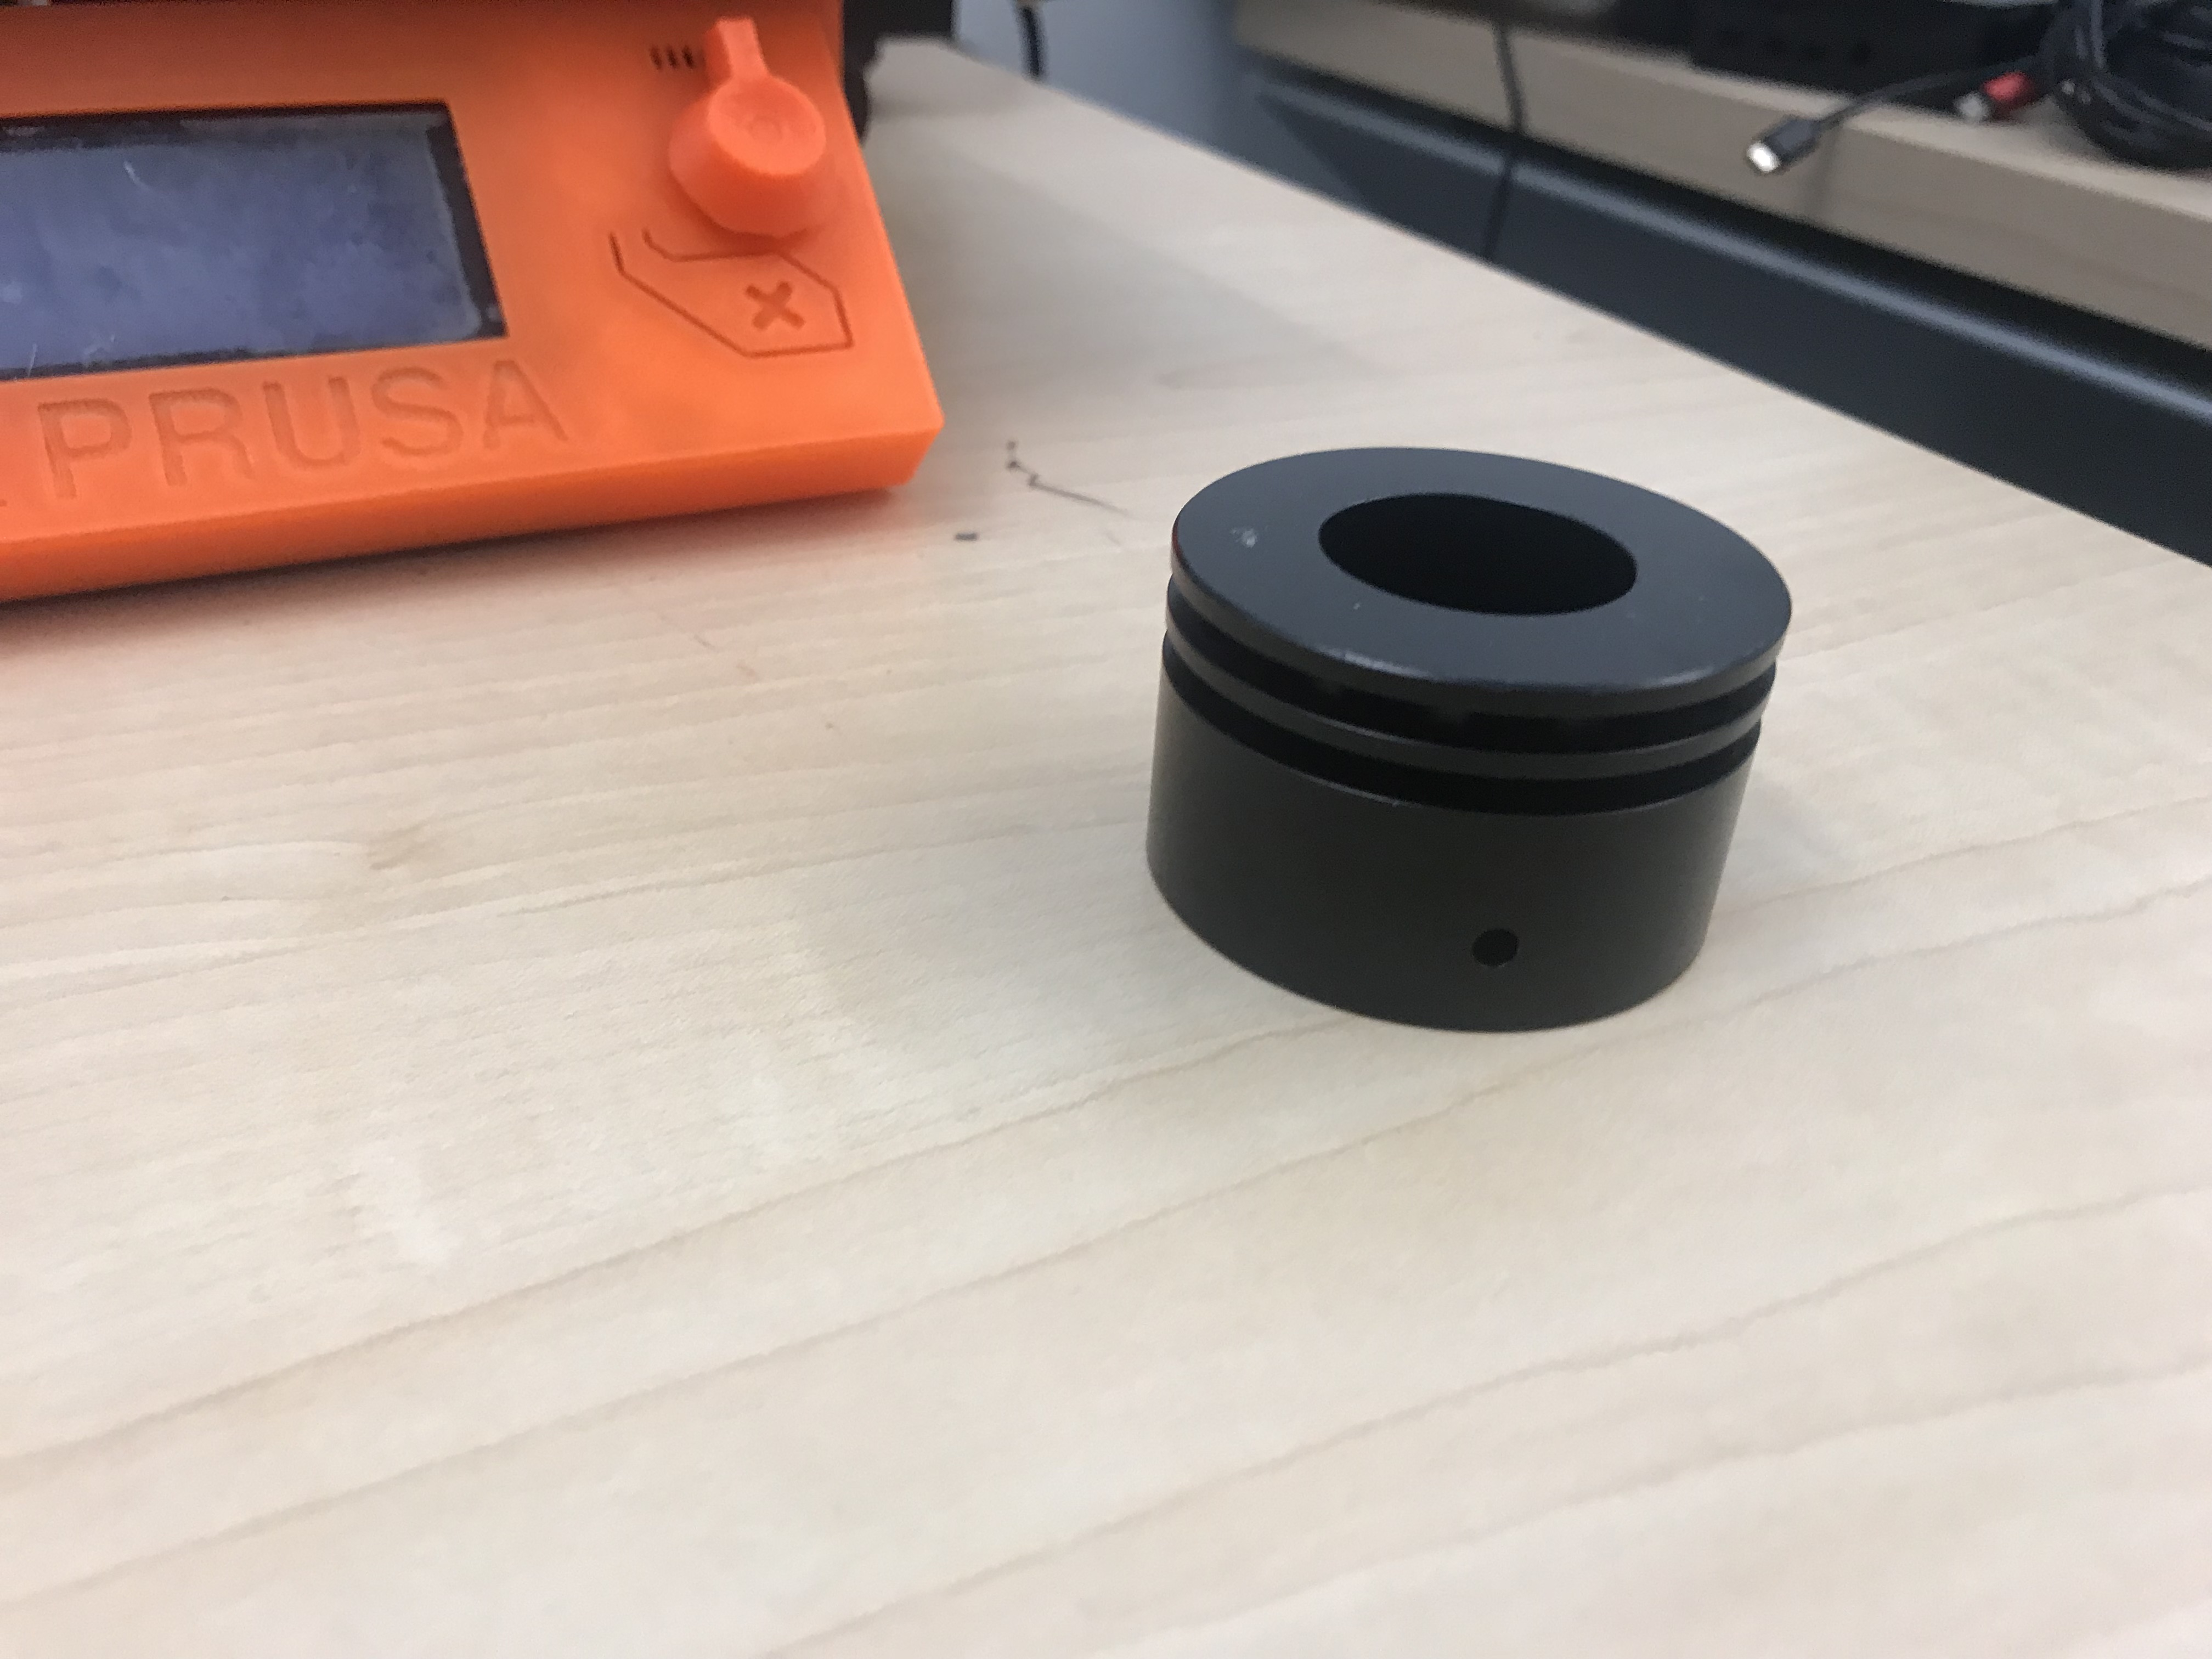pillar1: (1137, 423, 1806, 1047)
